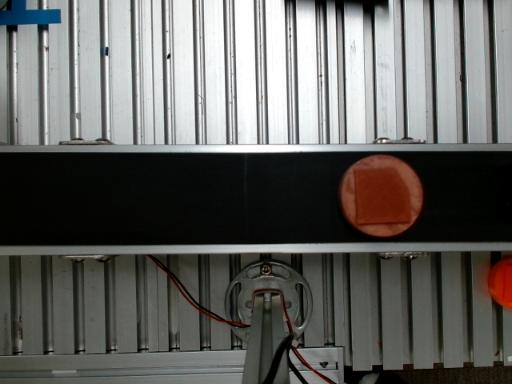Brown_Waper: (338, 155, 422, 237)
Not_Square: (354, 167, 411, 225)
